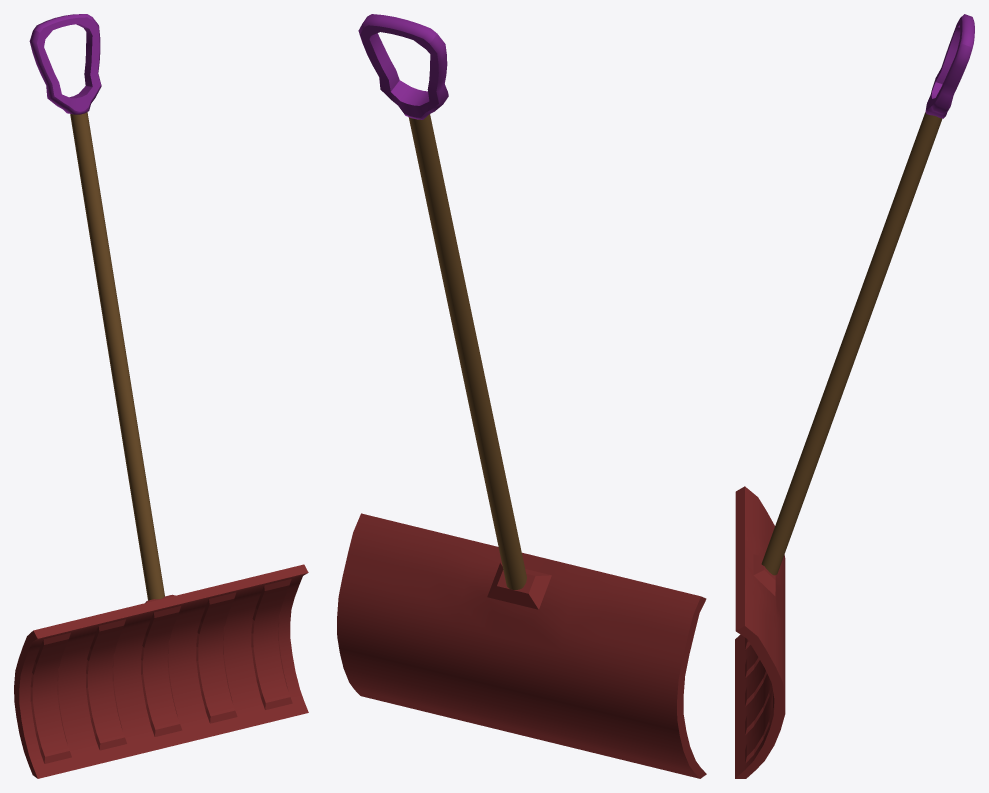
Rendered from ART-MOD-A-SHOVEL-002.FBX.
The picture shows the model from 3 angles, left to right: view 1: azimuth 30°, elevation 25°; view 2: azimuth 150°, elevation 25°; view 3: azimuth 270°, elevation 25°; orthographic projection. The views are drawn at different scales.
Parts seen in each view (by area): view 1: Box002; view 2: Box002; view 3: Box002.
Boxes of the visible parts, x1,y1,x2,y2 form: Box002: (14, 14, 308, 778); Box002: (337, 14, 706, 778); Box002: (735, 14, 974, 778).
Size of the model in its own units: 25.86 by 59.22 by 18.79.
